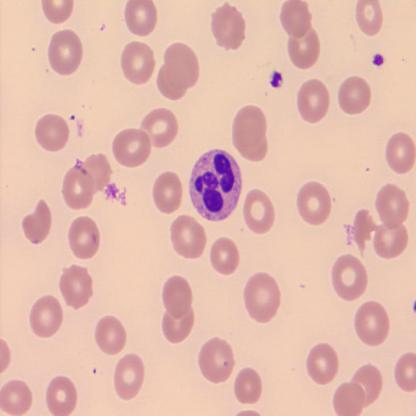Segmented neutrophil: (186, 146, 244, 224)
